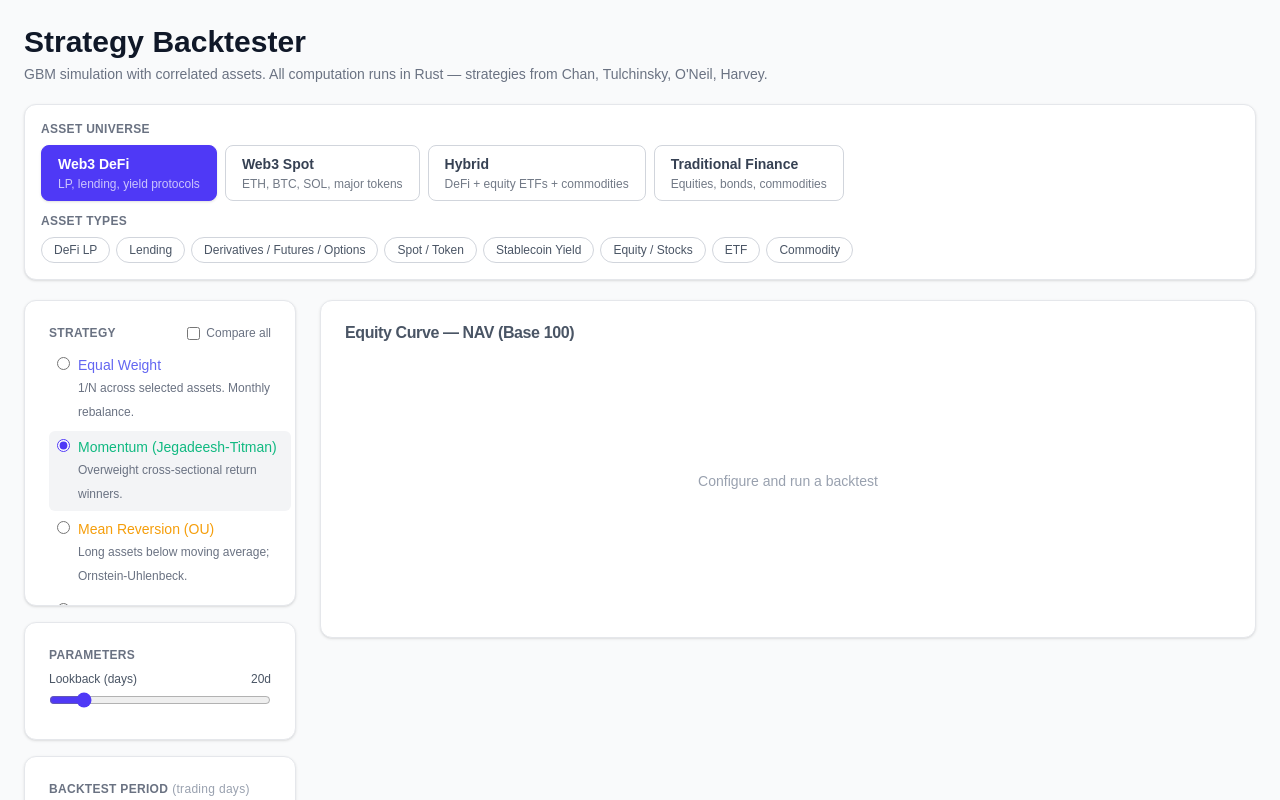
Test: AssetTypeBar › clear button appears when a type is selected
The width and height of the screenshot is (1280, 800).
Expected: the text "clear" is not shown
Click the button with test id "asset-type-equity" at {"x": 653, "y": 250}, box [600,237,706,263]
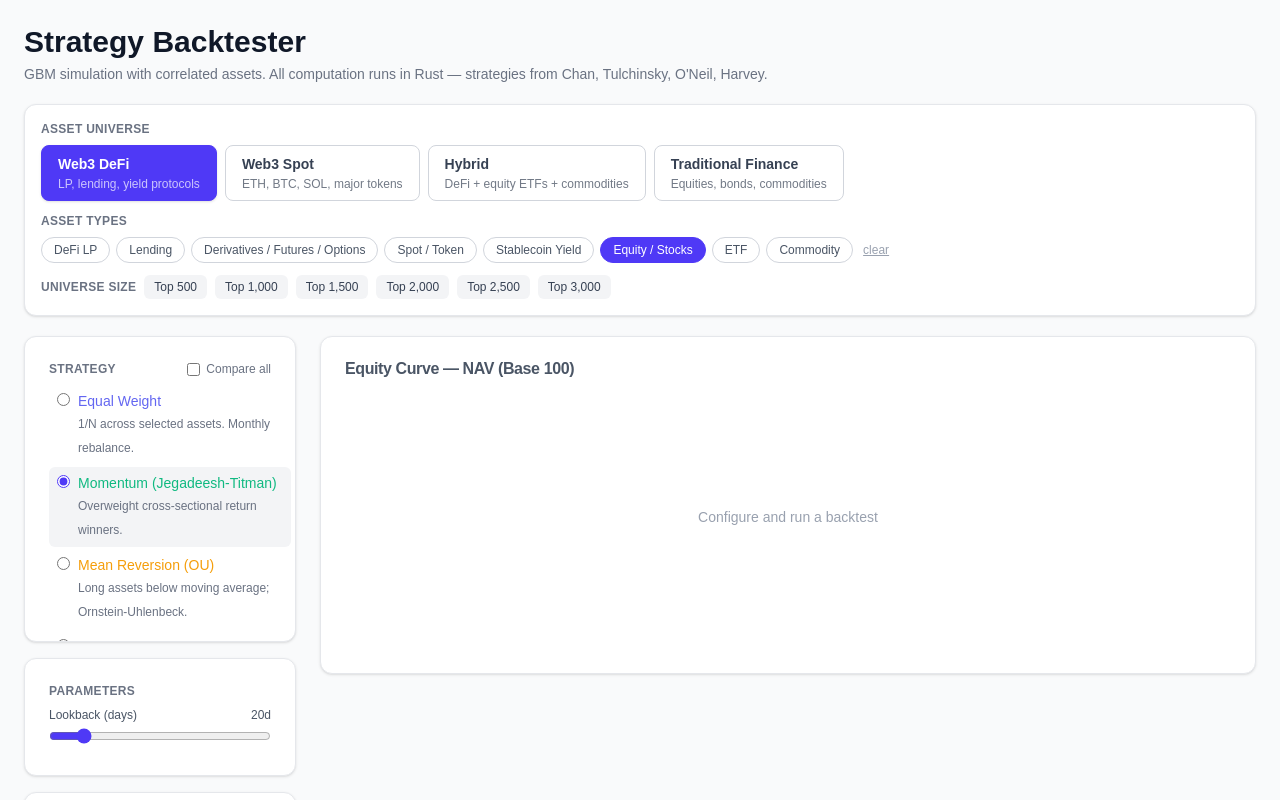
Expected: the button "clear" is shown, [863,242,889,258]
